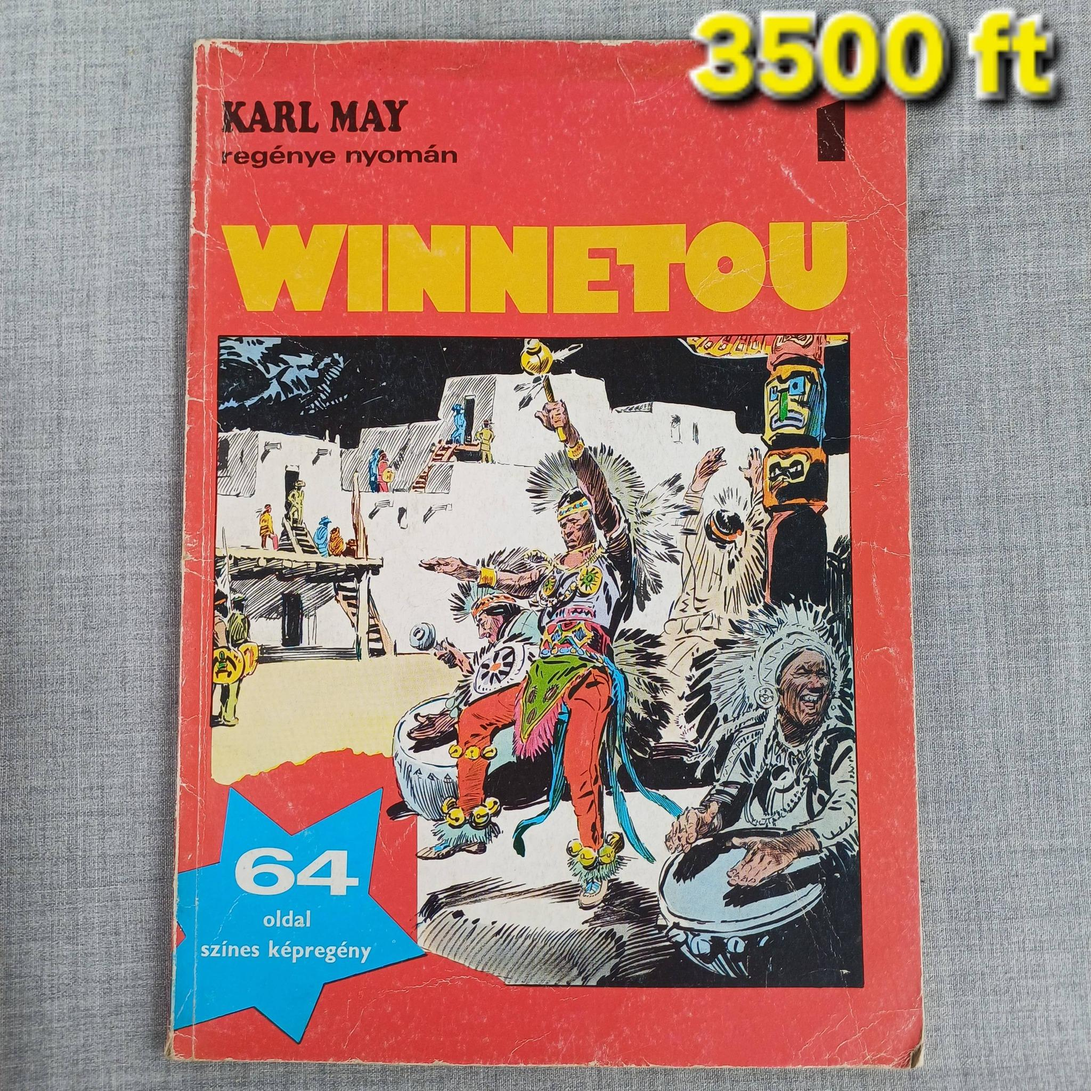comic: (171, 41, 925, 1065)
